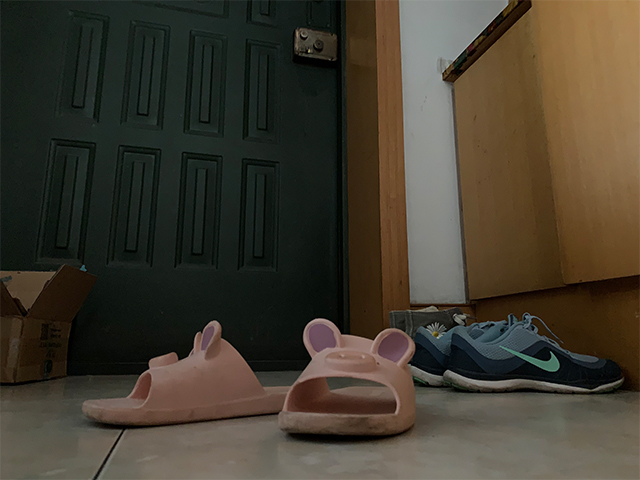cabinet: (440, 1, 640, 393)
slippers: (80, 318, 287, 425), (279, 317, 421, 440)
